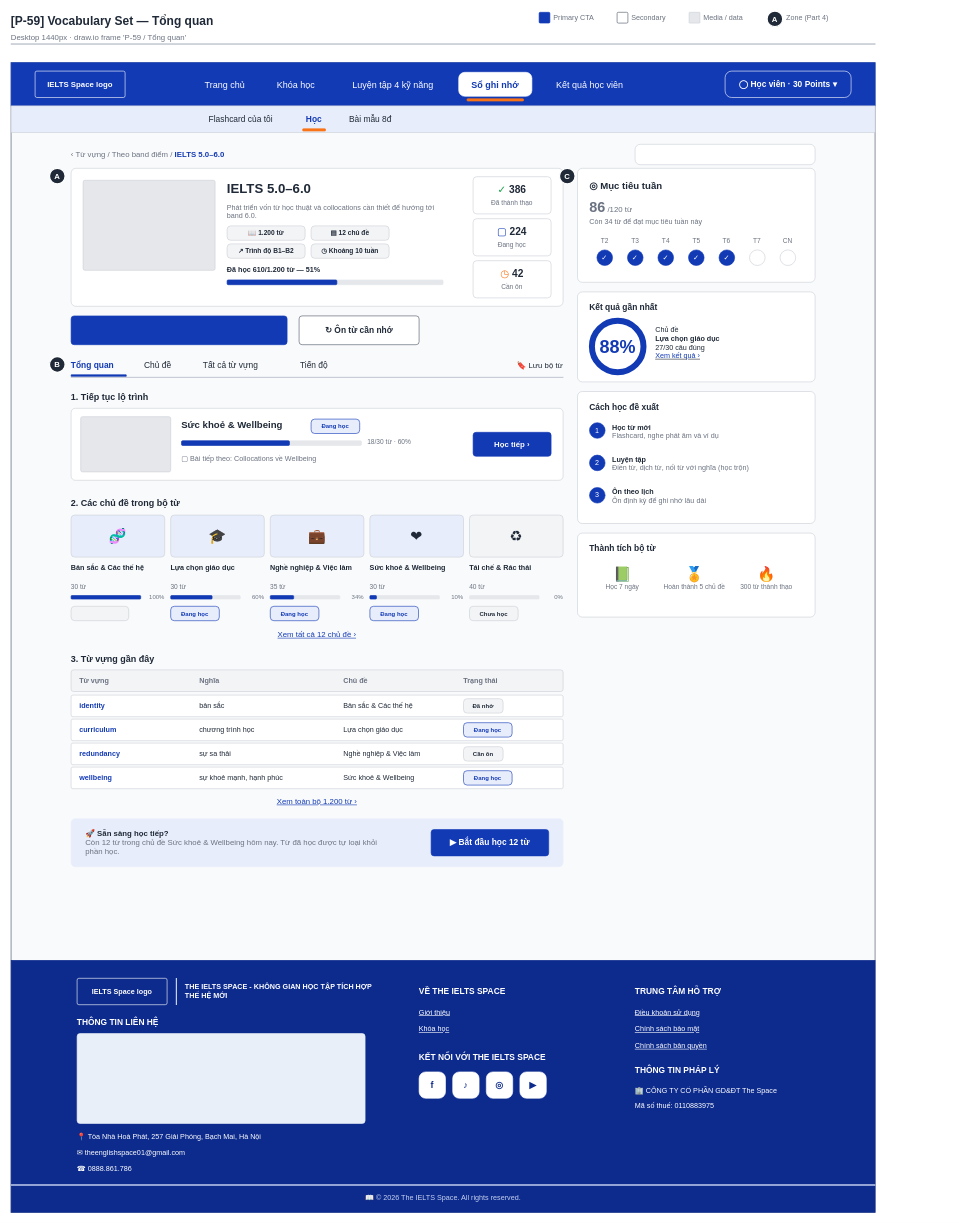
The diagram is 959 pixels wide and 1223 high, and some of its shapes have lost their labels. The shapes that lost their labels are listed below. From the top down, each one's centre as x and y in pixels, then its label:
point 724,154: ⌕ Tra nhanh từ vựng…
point 148,225: ▨ Ảnh bìa bộ từ
point 178,330: ▶ Tiếp tục học
point 125,444: ▨ Ảnh chủ đề
point 99,613: Hoàn thành
point 220,1078: 📍 The IELTS Space Mở trong Maps ↗
